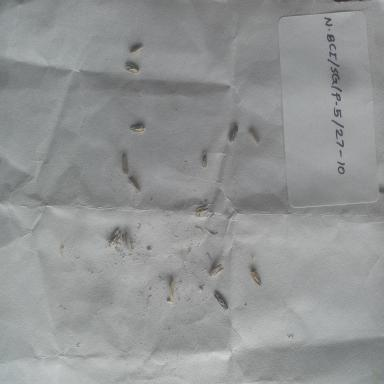pbw: (213, 292, 232, 313), (120, 233, 135, 258), (248, 127, 264, 150), (208, 262, 225, 282), (126, 174, 142, 195), (108, 226, 122, 249), (119, 150, 131, 176), (125, 61, 144, 77), (128, 122, 147, 136), (198, 150, 210, 172), (168, 278, 179, 301), (250, 270, 264, 288), (128, 42, 144, 57), (230, 125, 240, 143)
